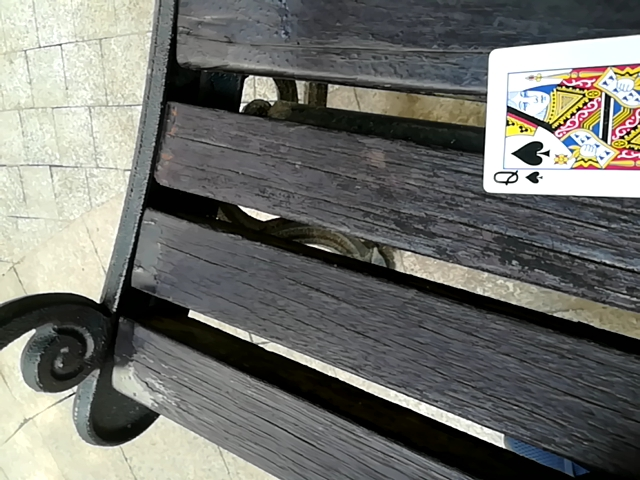ht q: (482, 21, 640, 196)
